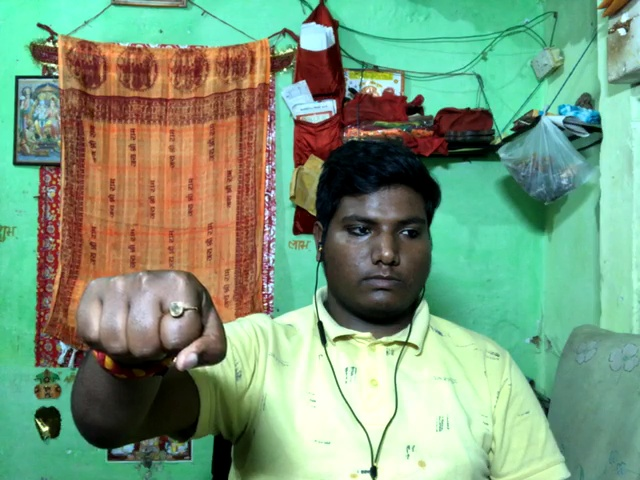Yes: (49, 262, 244, 395)
